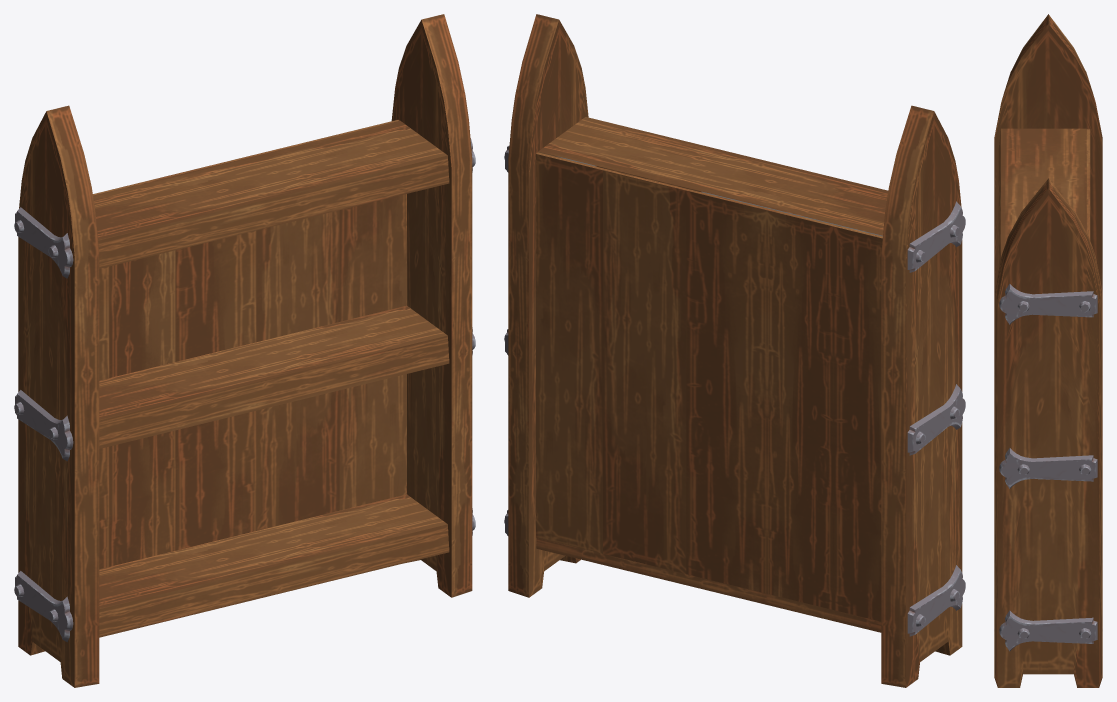
File: Shelf_Arch.fbx
The picture shows the model from 3 angles, left to right: view 1: azimuth 30°, elevation 25°; view 2: azimuth 150°, elevation 25°; view 3: azimuth 270°, elevation 25°; orthographic projection. The views are drawn at different scales.
Visible parts, largest first — view 1: Shelf_Arch; view 2: Shelf_Arch; view 3: Shelf_Arch.
Boxes of the visible parts, box(x1,y1,x2,y2) form: Shelf_Arch: box(14, 14, 475, 687); Shelf_Arch: box(504, 14, 965, 687); Shelf_Arch: box(994, 14, 1102, 687).
Size of the model in its own units: 125 by 159 by 31.16.
